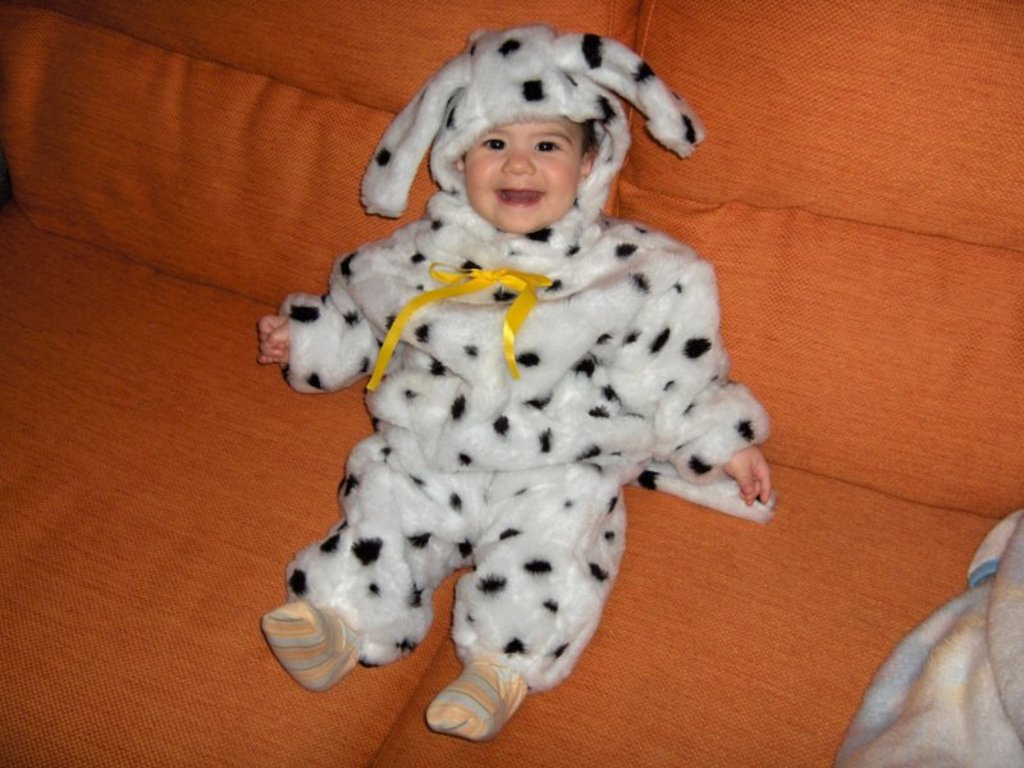Person: (256, 23, 779, 742)
